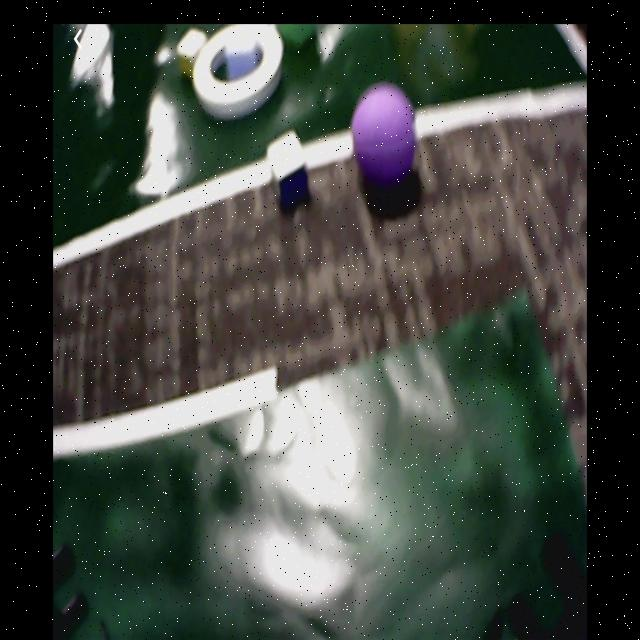ball: (353, 84, 417, 184)
